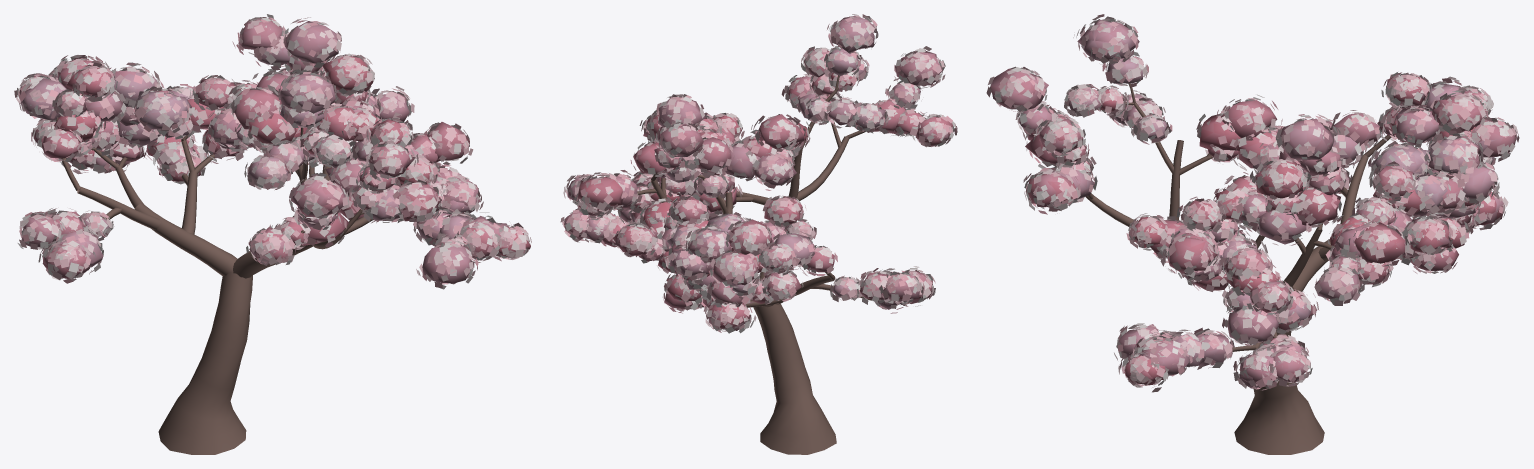
File: cherryb.glb
3 renders of one model, left to right at view 1: azimuth 30°, elevation 25°; view 2: azimuth 150°, elevation 25°; view 3: azimuth 270°, elevation 25°, orthographic. The views are drawn at different scales.
Visible parts, largest first — view 1: CherryB_flowers, CherryB_blossom, CherryB_bark; view 2: CherryB_flowers, CherryB_blossom, CherryB_bark; view 3: CherryB_flowers, CherryB_blossom, CherryB_bark.
Part boxes in pixels (x1,y1,x2,y2): CherryB_flowers: (14, 14, 531, 289); CherryB_blossom: (19, 18, 530, 283); CherryB_bark: (56, 63, 373, 454); CherryB_flowers: (560, 14, 957, 333); CherryB_blossom: (564, 16, 952, 330); CherryB_bark: (637, 75, 915, 454); CherryB_flowers: (986, 14, 1519, 392); CherryB_blossom: (990, 19, 1516, 388); CherryB_bark: (1085, 83, 1422, 454).
Bounding box in the file's own units: 5.77 × 5.35 × 6.07.
